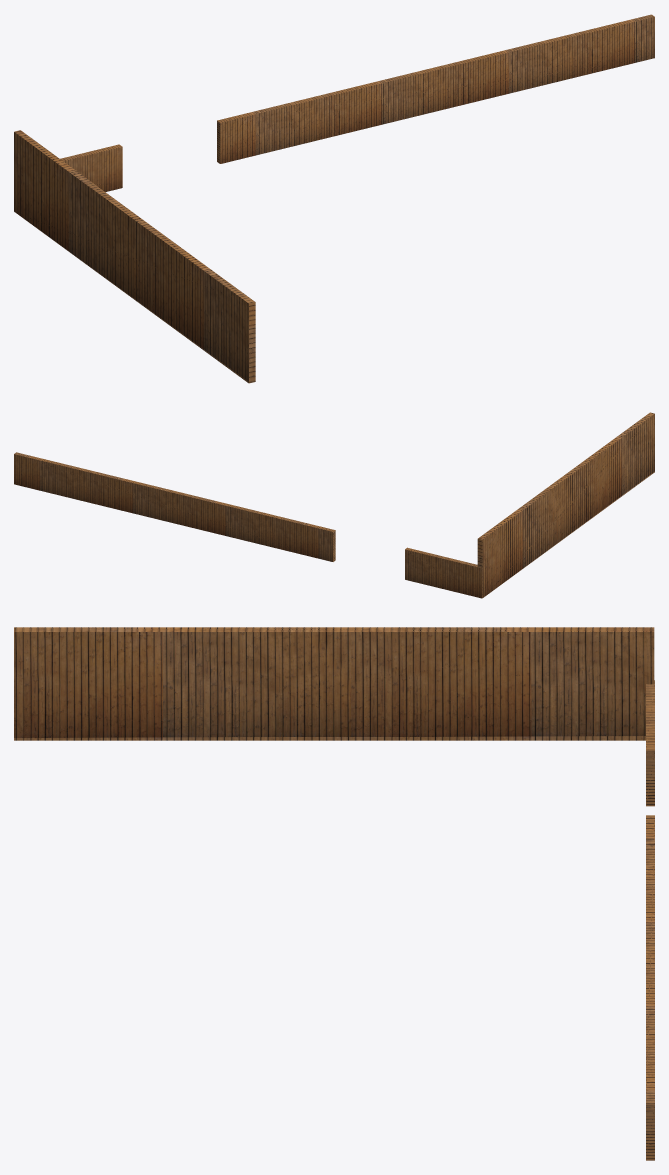
File: Walls.fbx
3 views of the same model, one above another, from view 1: azimuth 30°, elevation 25°; view 2: azimuth 150°, elevation 25°; view 3: azimuth 270°, elevation 25° (orthographic). The views are drawn at different scales.
Parts seen in each view (by area): view 1: Box003, Box004; view 2: Box003, Box004; view 3: Box004, Box003.
Boxes of the visible parts, x1=… form: Box003: x1=60, y1=14, x2=654, y2=191; Box004: x1=14, y1=130, x2=255, y2=383; Box003: x1=14, y1=452, x2=482, y2=598; Box004: x1=477, y1=412, x2=654, y2=598; Box004: x1=14, y1=627, x2=654, y2=740; Box003: x1=646, y1=680, x2=654, y2=1160.
Bounding box in the file's own units: 87.77 × 10.5 × 56.04.
Materials: 1 (1 with a texture image).
